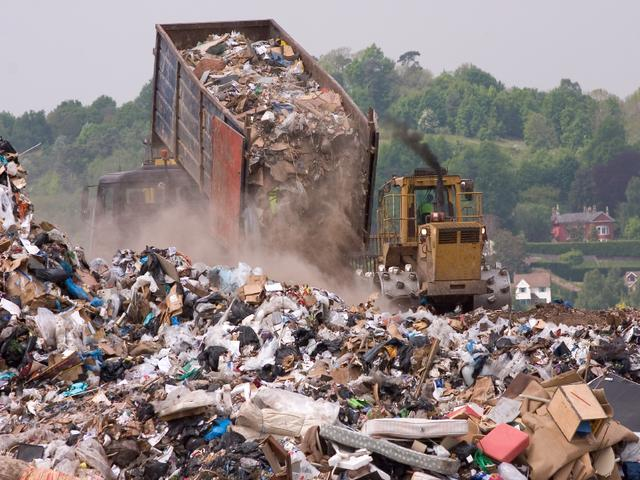garbage: (316, 318, 514, 392), (133, 285, 284, 370), (3, 268, 131, 362)
